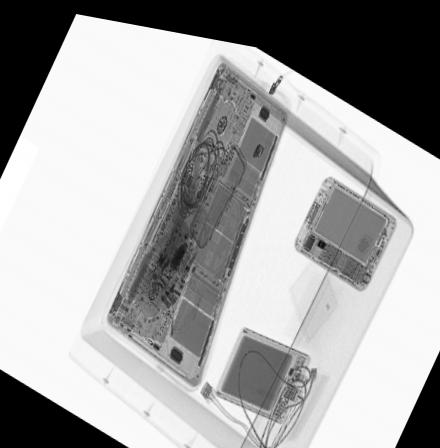Powerbank: (213, 317, 310, 412)
